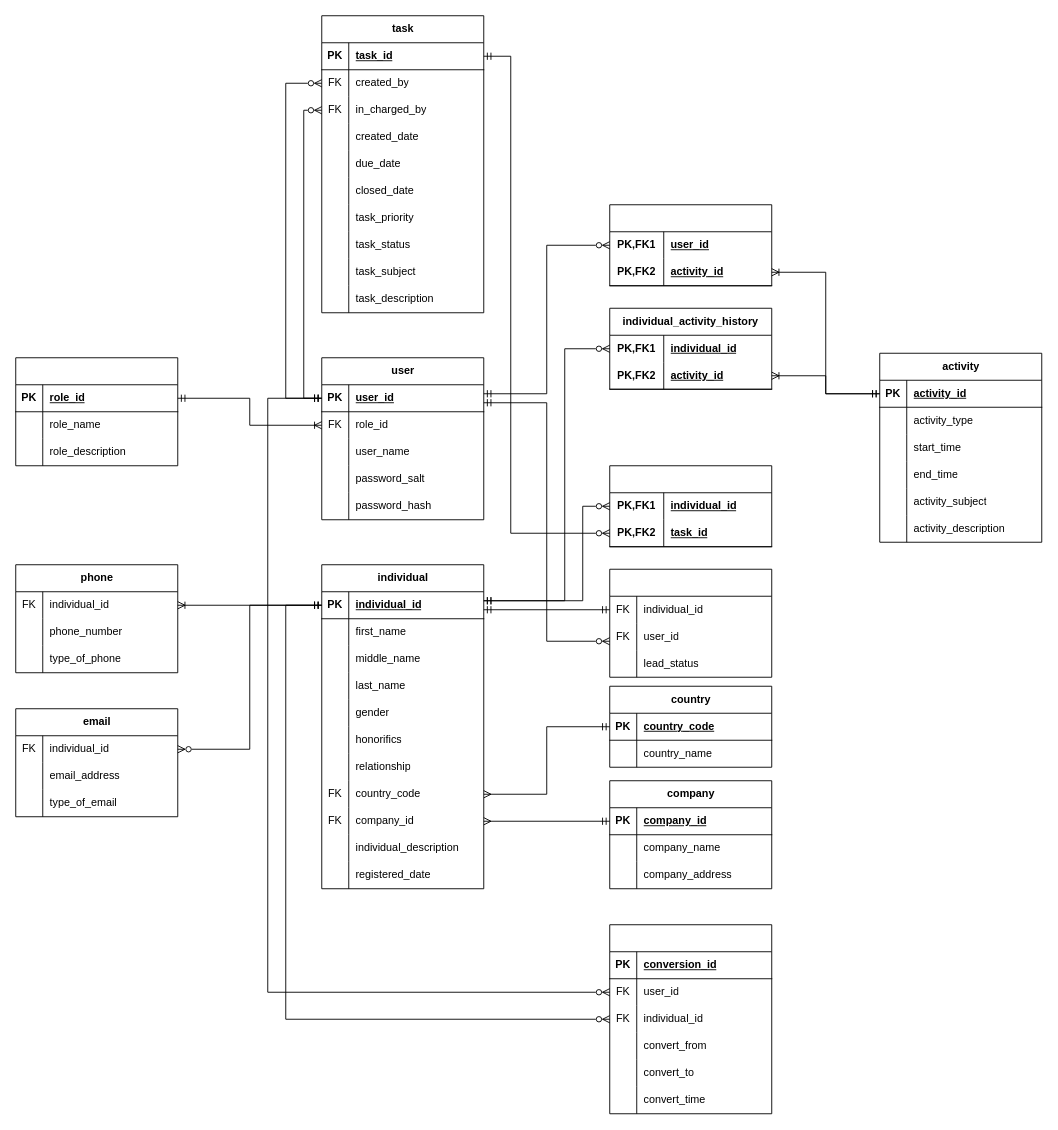
This 1058x1130 diagram has some shape labels left out. The shapes that lost their labels are listed below. From the top down, each one's box as (x1, y1, x2, y2) in pixels, then its label:
(609, 204, 772, 286): user_activity_history
(15, 357, 178, 466): user_role
(609, 465, 772, 547): task_participant
(609, 568, 772, 677): lead_individual
(609, 924, 772, 1114): conversion_history
